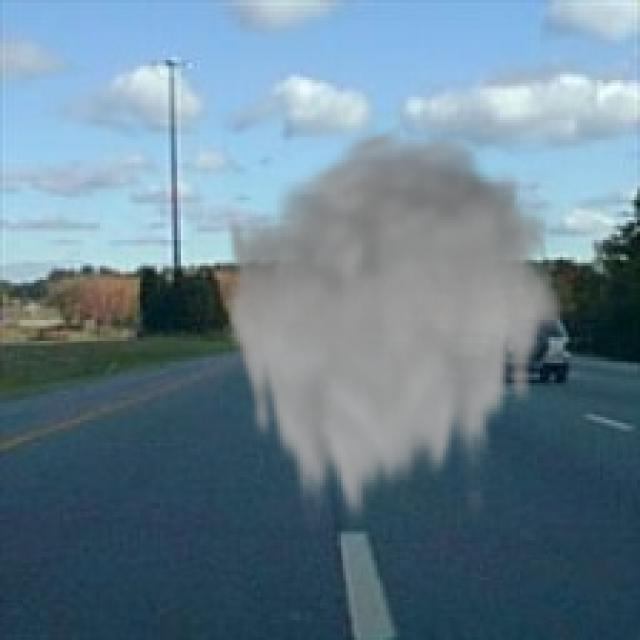smoke: (223, 120, 568, 534)
